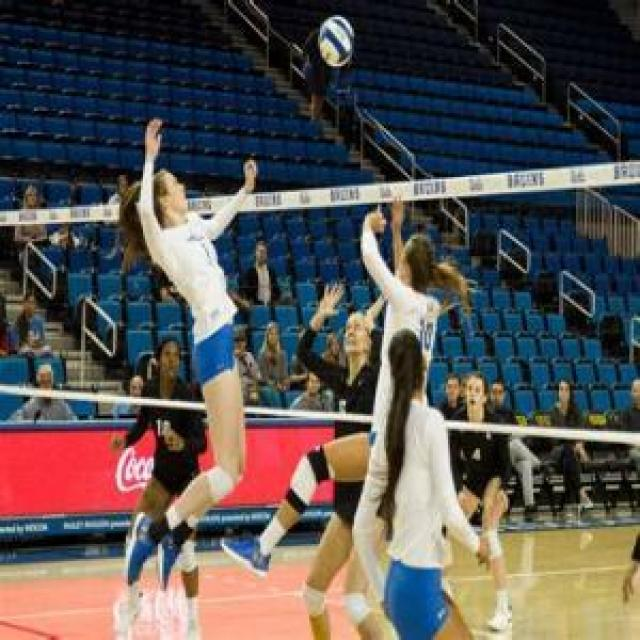volleyball: (318, 14, 356, 67)
